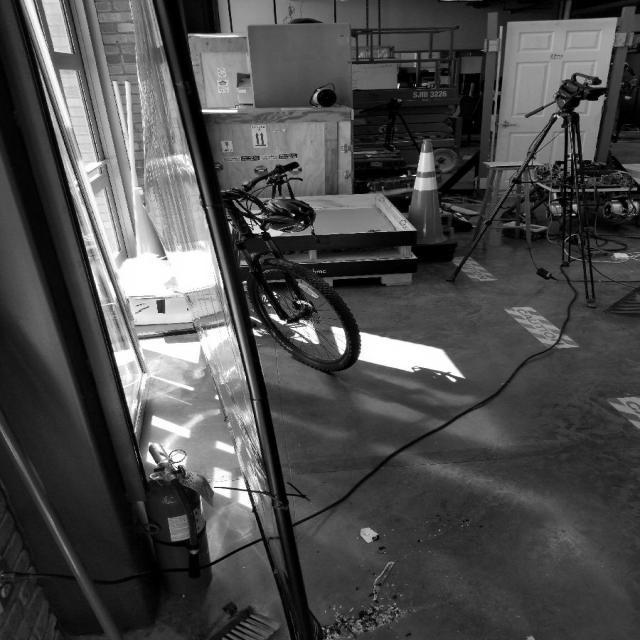door: (489, 15, 619, 203), (500, 118, 518, 131)
